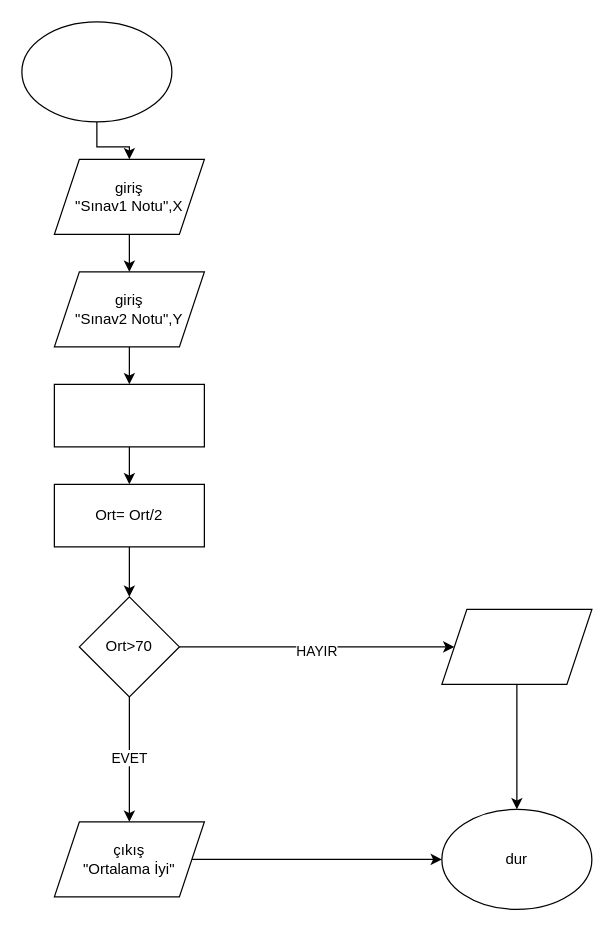
Image size: 614x931. Some labels were removed from this diagram. The centre of each missing label's shape, as x and y in pixels:
BAŞLA: the point at 96,71
Ort=X+Y: the point at 128,415
çıkış "Ortalama Kötü": the point at 516,646
